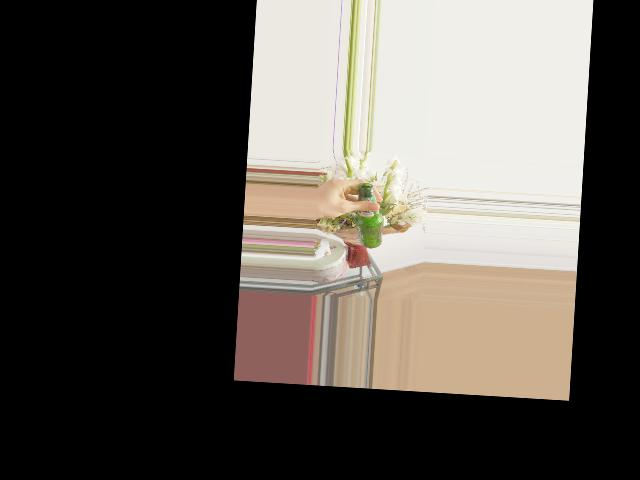beer: (352, 183, 385, 249)
